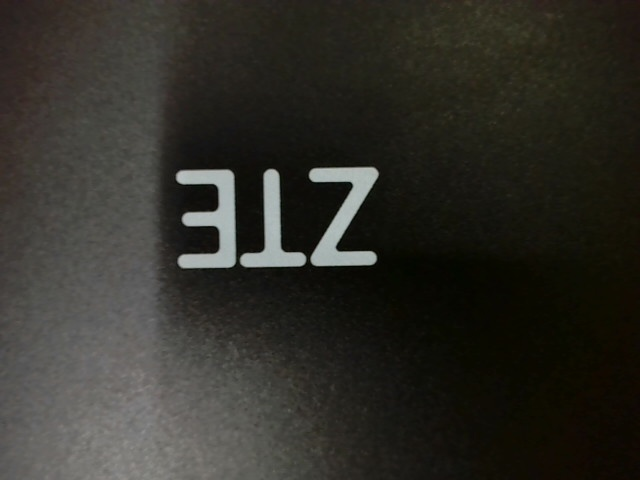AN_ZTE: (166, 156, 393, 276)
